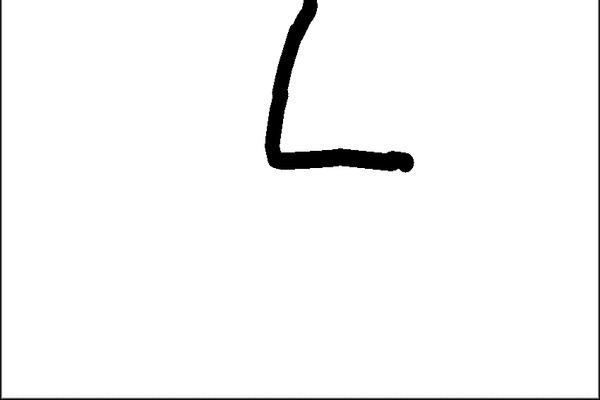L: (259, 0, 419, 179)
